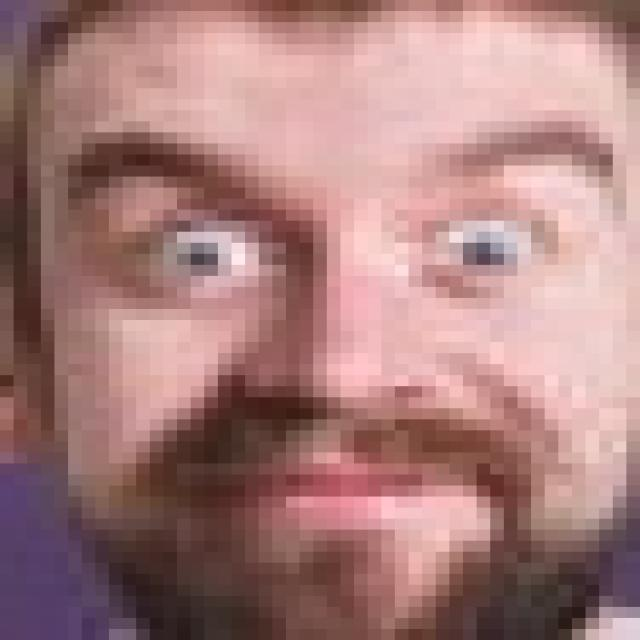Anxiety: (28, 0, 626, 629)
